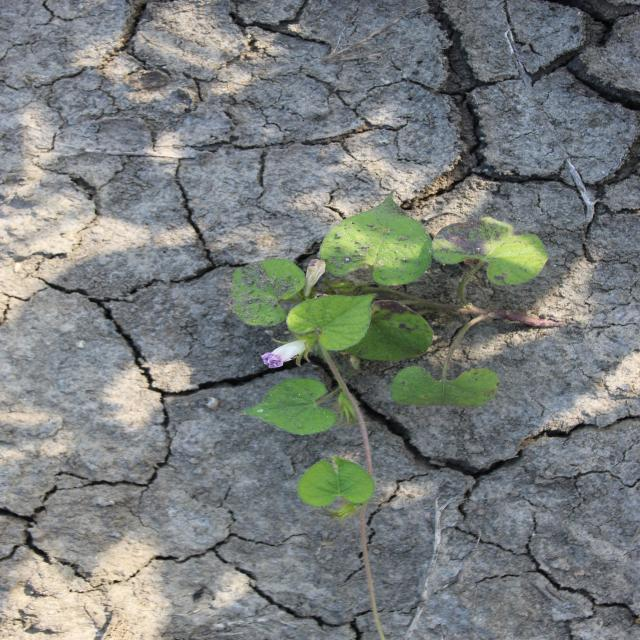MorningGlory: (225, 188, 551, 638)
